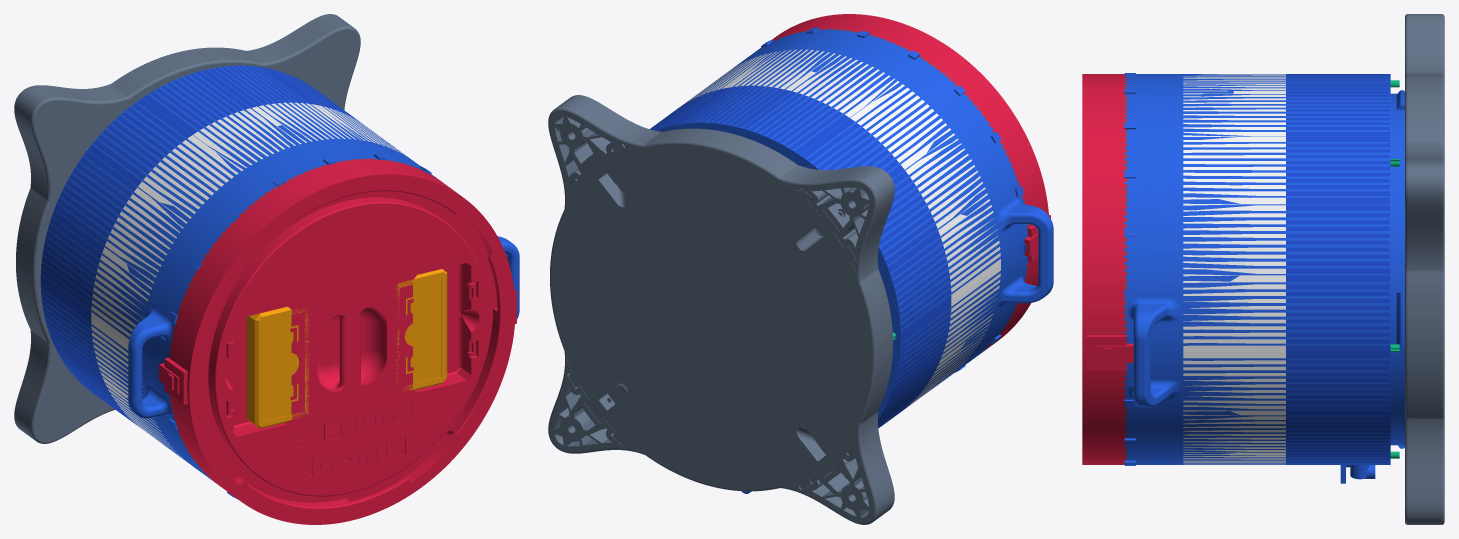
The model's file is KingOfKoolers_V12_18in_Tall_24od.obj.
The picture shows the model from 3 angles, left to right: view 1: azimuth 30°, elevation 25°; view 2: azimuth 150°, elevation 25°; view 3: azimuth 270°, elevation 25°; orthographic projection. The views are drawn at different scales.
Parts seen in each view (by area): view 1: v12_crown_lid_V12_Embossed_Crown_Lid_+_Deadbolt_Sliders, v12_one_piece_18in_V12_18in_Tall_24in_OD_One-Piece_Body, v12_wagon_base_Concentric_Dovetail_Wagon_Base_+_4x_Wheel_Feet, v12_sec2_lower_18in_Sec_2_-_Lower_Body_&_Spigot_(18in_Version), v12_sec3_mid_18in_Sec_3_-_Mid_Body_Extension_(18in_Version), v12_solar_batteries_Dual_10W_USB_Solar_Battery_Enclosures, v12_sec4_handles_Sec_4_-_Molded_Side_Loop_Handle_Ring, v12_sec5_collar_Sec_5_-_20-Start_Helix_&_Keyway_Collar; view 2: v12_wagon_base_Concentric_Dovetail_Wagon_Base_+_4x_Wheel_Feet, v12_one_piece_18in_V12_18in_Tall_24in_OD_One-Piece_Body, v12_sec2_lower_18in_Sec_2_-_Lower_Body_&_Spigot_(18in_Version), v12_sec3_mid_18in_Sec_3_-_Mid_Body_Extension_(18in_Version), v12_crown_lid_V12_Embossed_Crown_Lid_+_Deadbolt_Sliders, v12_sec4_handles_Sec_4_-_Molded_Side_Loop_Handle_Ring; view 3: v12_one_piece_18in_V12_18in_Tall_24in_OD_One-Piece_Body, v12_sec2_lower_18in_Sec_2_-_Lower_Body_&_Spigot_(18in_Version), v12_sec3_mid_18in_Sec_3_-_Mid_Body_Extension_(18in_Version), v12_wagon_base_Concentric_Dovetail_Wagon_Base_+_4x_Wheel_Feet, v12_crown_lid_V12_Embossed_Crown_Lid_+_Deadbolt_Sliders, v12_sec4_handles_Sec_4_-_Molded_Side_Loop_Handle_Ring, v12_sec5_collar_Sec_5_-_20-Start_Helix_&_Keyway_Collar.
Boxes of the visible parts, box(x1,y1,x2,y2) form: v12_crown_lid_V12_Embossed_Crown_Lid_+_Deadbolt_Sliders: box(159, 159, 516, 524); v12_one_piece_18in_V12_18in_Tall_24in_OD_One-Piece_Body: box(40, 65, 519, 499); v12_wagon_base_Concentric_Dovetail_Wagon_Base_+_4x_Wheel_Feet: box(14, 14, 360, 443); v12_sec2_lower_18in_Sec_2_-_Lower_Body_&_Spigot_(18in_Version): box(41, 66, 360, 427); v12_sec3_mid_18in_Sec_3_-_Mid_Body_Extension_(18in_Version): box(91, 102, 406, 458); v12_solar_batteries_Dual_10W_USB_Solar_Battery_Enclosures: box(246, 269, 447, 428); v12_sec4_handles_Sec_4_-_Molded_Side_Loop_Handle_Ring: box(129, 139, 514, 481); v12_sec5_collar_Sec_5_-_20-Start_Helix_&_Keyway_Collar: box(168, 158, 422, 479); v12_wagon_base_Concentric_Dovetail_Wagon_Base_+_4x_Wheel_Feet: box(548, 95, 894, 524); v12_one_piece_18in_V12_18in_Tall_24in_OD_One-Piece_Body: box(650, 27, 1053, 493); v12_sec2_lower_18in_Sec_2_-_Lower_Body_&_Spigot_(18in_Version): box(650, 85, 951, 428); v12_sec3_mid_18in_Sec_3_-_Mid_Body_Extension_(18in_Version): box(682, 49, 1000, 408); v12_crown_lid_V12_Embossed_Crown_Lid_+_Deadbolt_Sliders: box(761, 14, 1050, 352); v12_sec4_handles_Sec_4_-_Molded_Side_Loop_Handle_Ring: box(734, 29, 1053, 372); v12_one_piece_18in_V12_18in_Tall_24in_OD_One-Piece_Body: box(1124, 73, 1404, 483); v12_sec2_lower_18in_Sec_2_-_Lower_Body_&_Spigot_(18in_Version): box(1286, 74, 1389, 464); v12_sec3_mid_18in_Sec_3_-_Mid_Body_Extension_(18in_Version): box(1183, 74, 1285, 464); v12_wagon_base_Concentric_Dovetail_Wagon_Base_+_4x_Wheel_Feet: box(1405, 14, 1444, 524); v12_crown_lid_V12_Embossed_Crown_Lid_+_Deadbolt_Sliders: box(1082, 74, 1133, 464); v12_sec4_handles_Sec_4_-_Molded_Side_Loop_Handle_Ring: box(1127, 74, 1183, 464); v12_sec5_collar_Sec_5_-_20-Start_Helix_&_Keyway_Collar: box(1124, 74, 1126, 464).
Size of the model in its own units: 725 by 673 by 565.
